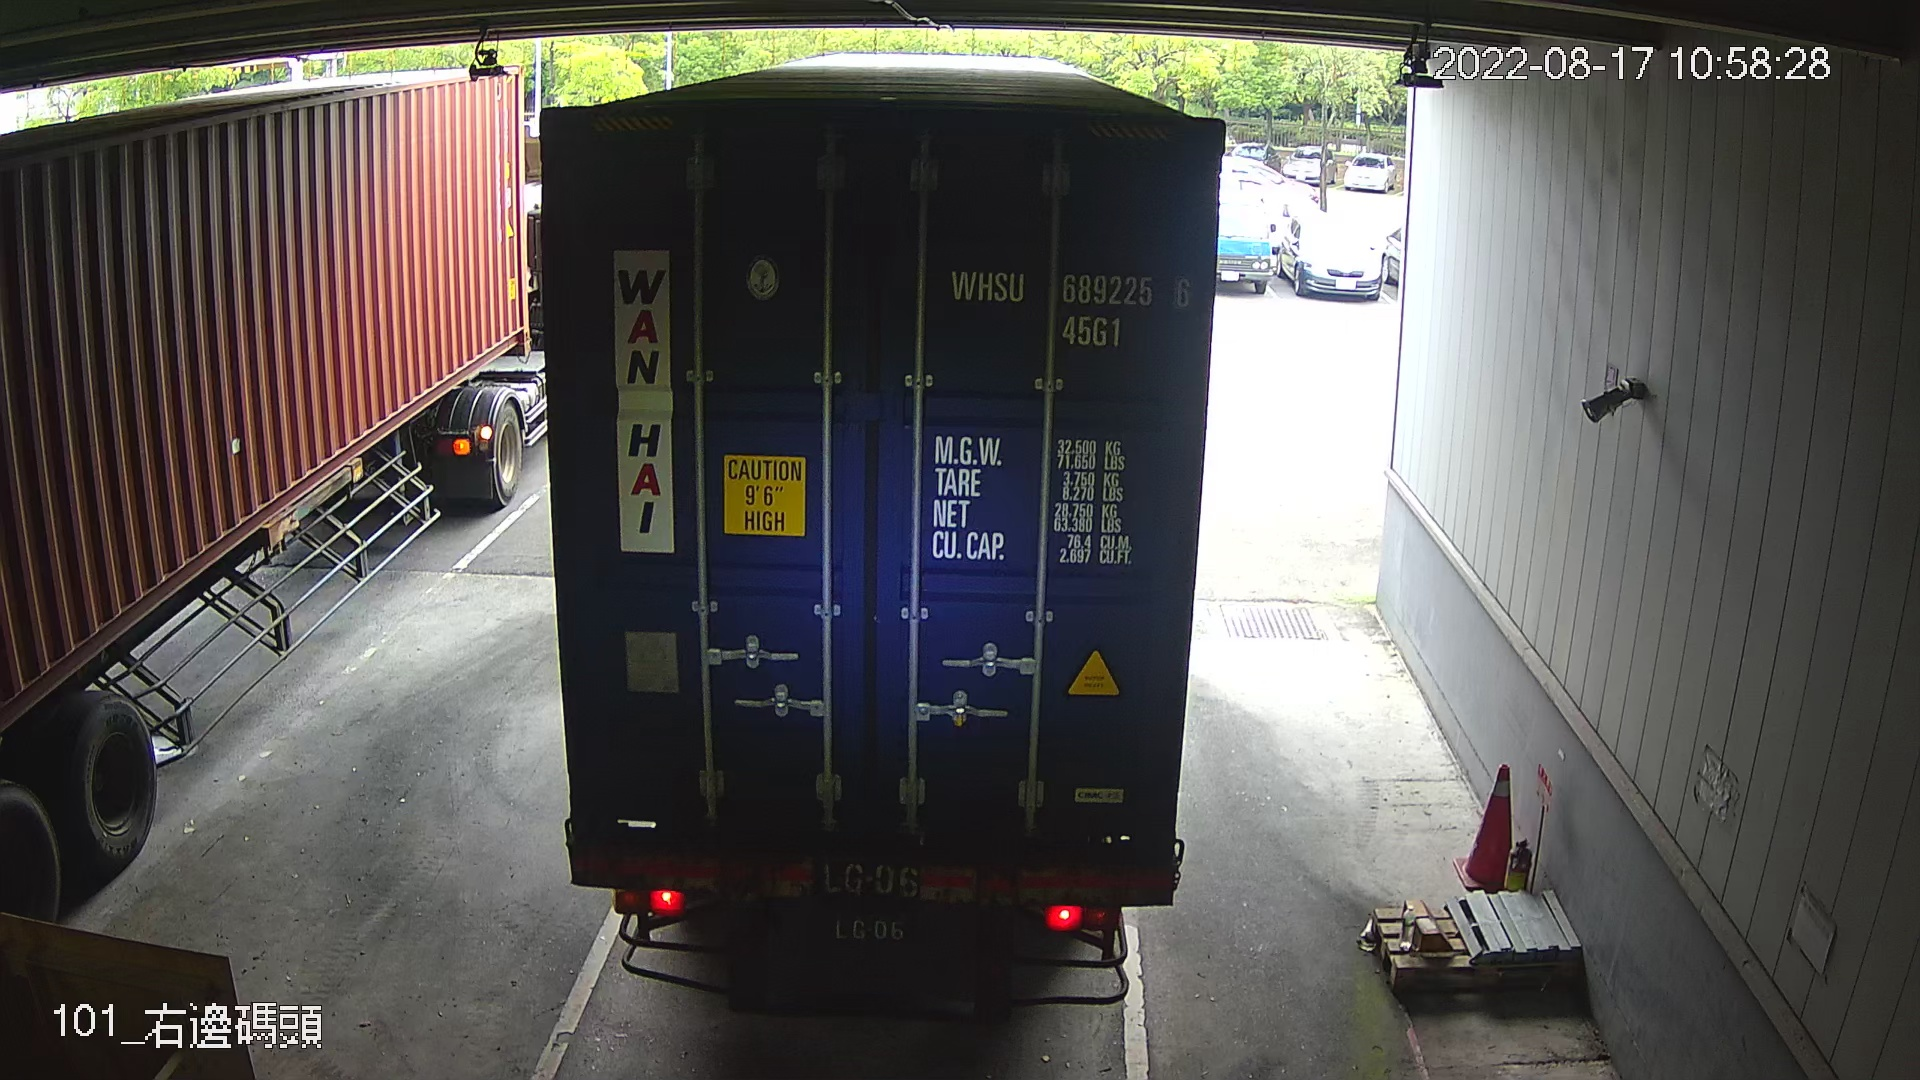container: (945, 255, 1197, 357)
